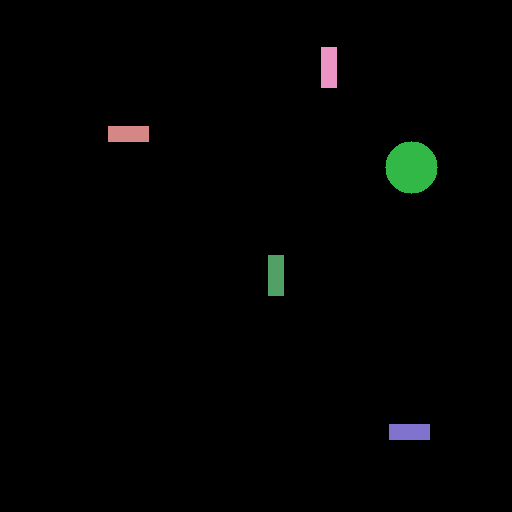circle: (384, 142, 438, 194)
side_rect: (104, 124, 151, 143), (387, 424, 434, 442)
up_rect: (264, 254, 286, 297), (318, 44, 340, 87)
